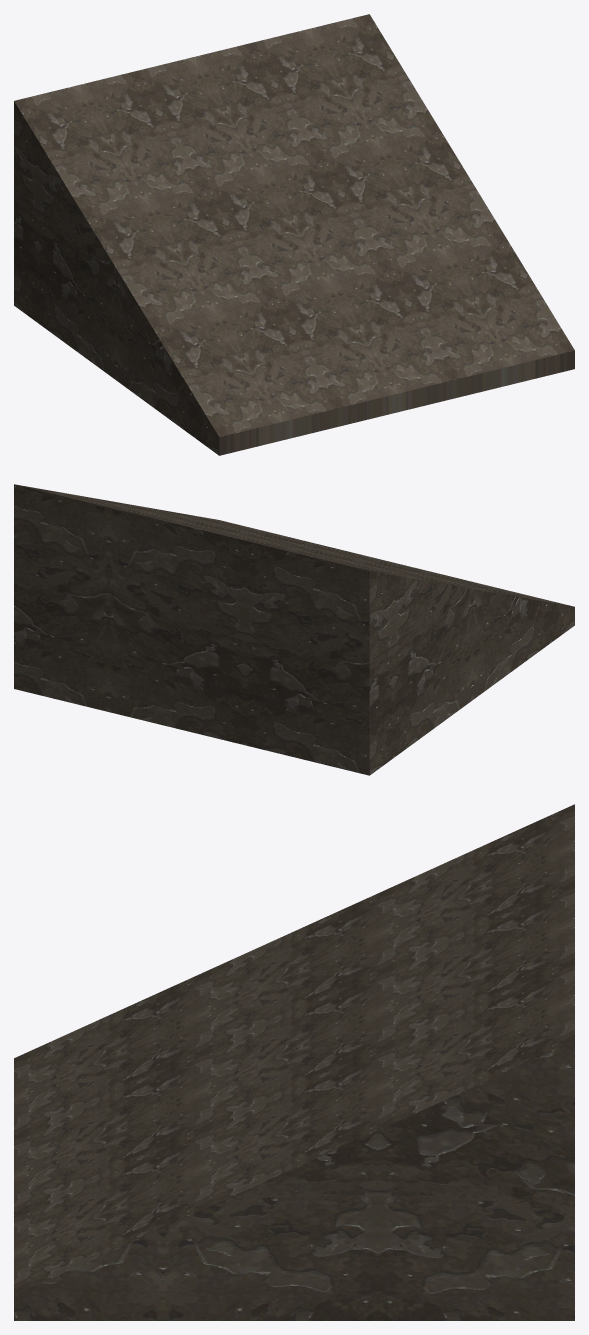
Rendered from Ramp_metal2.glb.
3 renders of one model, top to bottom at view 1: azimuth 30°, elevation 25°; view 2: azimuth 150°, elevation 25°; view 3: azimuth 270°, elevation 25°, orthographic. The views are drawn at different scales.
Visible parts, largest first — view 1: Cube; view 2: Cube; view 3: Cube.
Part boxes in pixels (x1=…): Cube: x1=14, y1=14, x2=574, y2=455; Cube: x1=14, y1=484, x2=574, y2=775; Cube: x1=14, y1=804, x2=574, y2=1320.
Size of what is drawn, in the model's own units: 4 by 2.2 by 4.
1 material, 1 textured.
